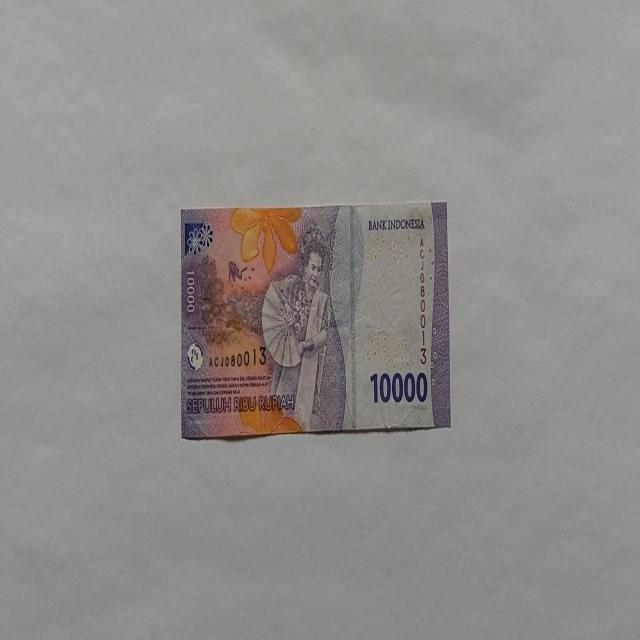Kertas: (179, 200, 451, 440), (369, 369, 428, 404)
